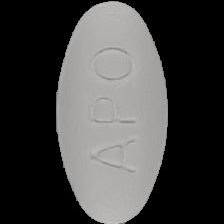50268-095: (0, 0, 224, 224)
